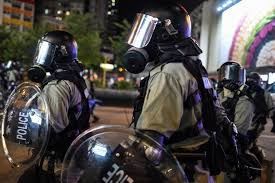mask: (118, 0, 199, 79), (23, 25, 86, 86), (214, 55, 247, 98)
